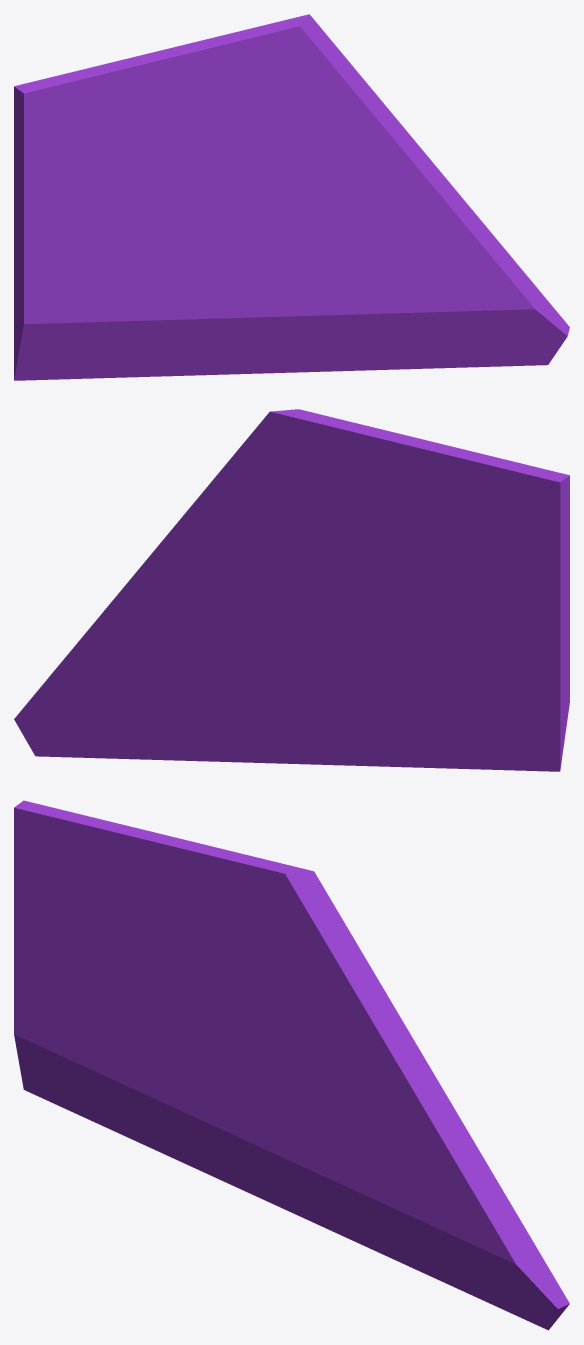
Rendered from Glass_12_1_chunks.fbx.
The picture shows the model from 3 angles, top to bottom: view 1: azimuth 30°, elevation 25°; view 2: azimuth 150°, elevation 25°; view 3: azimuth 330°, elevation 25°; orthographic projection.
Parts seen in each view (by area): view 1: Glass_12_1_1, Glass_12_1_0, Glass_12_1_2, Glass_12_1_4, Glass_12_1_6, Glass_12_1_5, Glass_12_1_3; view 2: Glass_12_1_1, Glass_12_1_2, Glass_12_1_4, Glass_12_1_6, Glass_12_1_0, Glass_12_1_5, Glass_12_1_3; view 3: Glass_12_1_1, Glass_12_1_0, Glass_12_1_2, Glass_12_1_4, Glass_12_1_6, Glass_12_1_5, Glass_12_1_3.
Part boxes in pixels (left/top/right/bottom): Glass_12_1_1: left=14, top=20, right=303, bottom=380; Glass_12_1_0: left=286, top=208, right=569, bottom=366; Glass_12_1_2: left=286, top=14, right=512, bottom=258; Glass_12_1_4: left=59, top=291, right=278, bottom=379; Glass_12_1_6: left=308, top=265, right=510, bottom=370; Glass_12_1_5: left=262, top=286, right=374, bottom=373; Glass_12_1_3: left=216, top=241, right=319, bottom=299; Glass_12_1_1: left=293, top=409, right=569, bottom=771; Glass_12_1_2: left=70, top=409, right=296, bottom=651; Glass_12_1_4: left=287, top=662, right=515, bottom=770; Glass_12_1_6: left=72, top=628, right=292, bottom=761; Glass_12_1_0: left=14, top=638, right=240, bottom=757; Glass_12_1_5: left=206, top=695, right=316, bottom=764; Glass_12_1_3: left=268, top=616, right=360, bottom=671; Glass_12_1_1: left=14, top=800, right=290, bottom=1109; Glass_12_1_0: left=271, top=1053, right=569, bottom=1330; Glass_12_1_2: left=286, top=865, right=513, bottom=1208; Glass_12_1_4: left=68, top=1093, right=266, bottom=1200; Glass_12_1_6: left=293, top=1118, right=511, bottom=1313; Glass_12_1_5: left=257, top=1132, right=378, bottom=1252; Glass_12_1_3: left=203, top=1078, right=303, bottom=1132.
Bounding box in the file's own units: 875 × 616 × 27.2.
